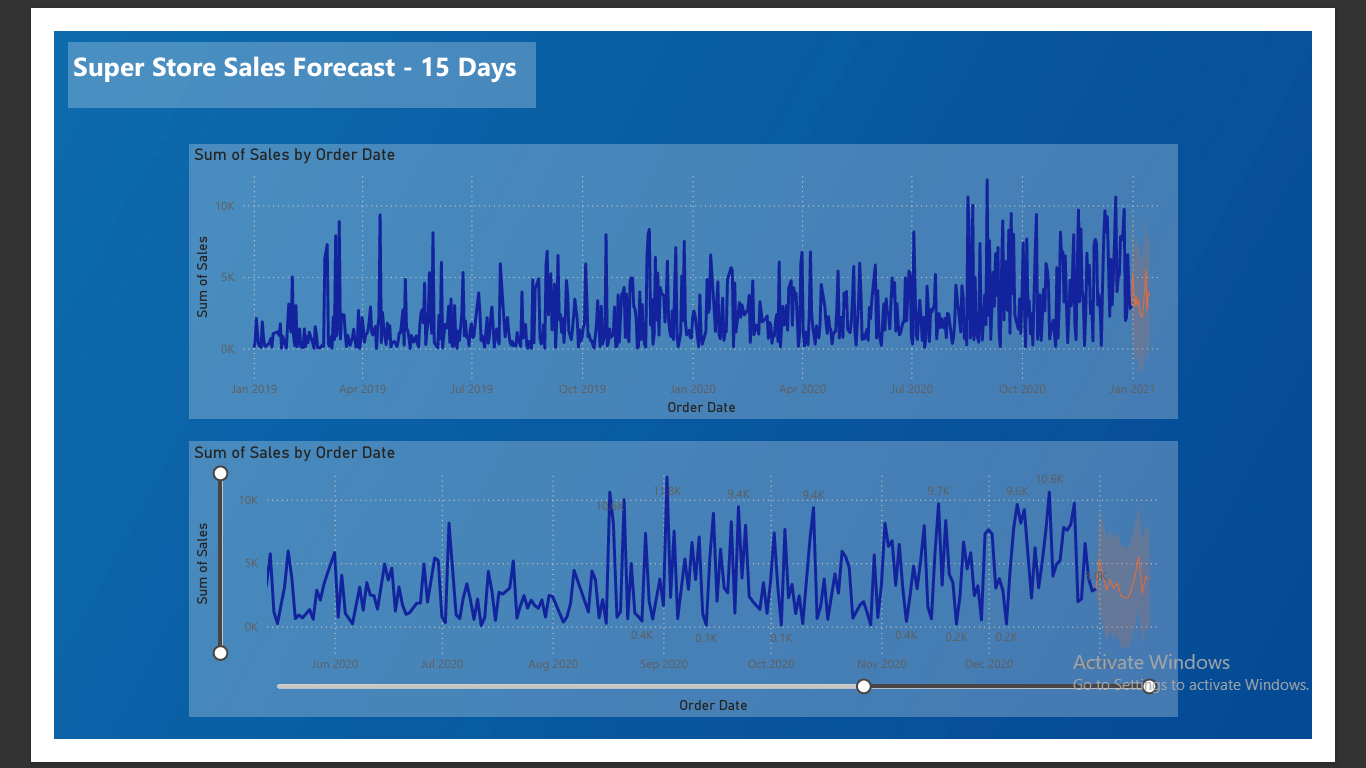

The page's visual inventory and layout, read from the dashboard file:
{"tool":"powerbi","page":{"name":"Page 2","canvas":[1280,720],"ordinal":1},"visuals":[{"type":"lineChart","fields":{"Y":["Sum(SuperStore_Sales_Dataset.Sales)"],"Category":["SuperStore_Sales_Dataset.Order Date"]},"box":[137.5,114.8,1006.3,280.6],"z":0},{"type":"lineChart","fields":{"Y":["Sum(SuperStore_Sales_Dataset.Sales)"],"Category":["SuperStore_Sales_Dataset.Order Date"]},"box":[137.5,418.1,1006.3,280.6],"z":1000},{"type":"textbox","box":[14.2,11.3,476.2,66.6],"z":2000}]}

Visuals, with their boxes in screenshot pixels (x1, y1, x2, y2), scaled from the page's 1280x720 canvas onto the 1366x768 screenshot:
lineChart - Sum(SuperStore_Sales_Dataset.Sales) x SuperStore_Sales_Dataset.Order Date: <region>147, 122, 1221, 422</region>
lineChart - Sum(SuperStore_Sales_Dataset.Sales) x SuperStore_Sales_Dataset.Order Date: <region>147, 446, 1221, 745</region>
textbox: <region>15, 12, 523, 83</region>
